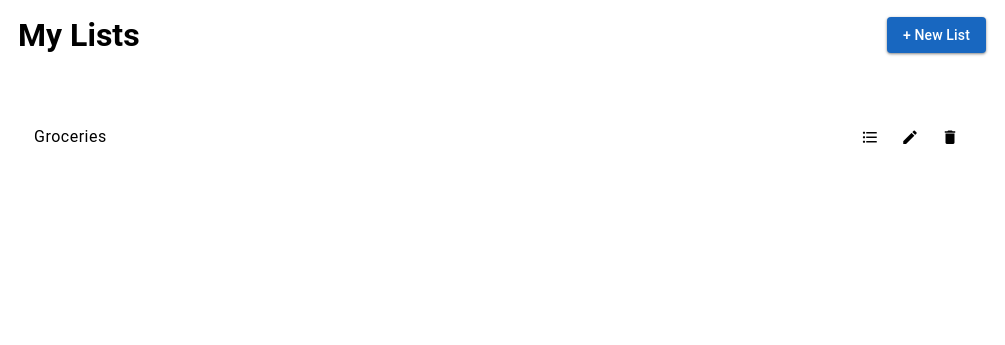
Test case: Feature 2 — Todo List Management › US-2.4 — Rename and delete lists › User deletes a list
The image size is (1005, 345).
Click the button named "Delete list". click: (950, 137)
box: [930, 117, 970, 157]
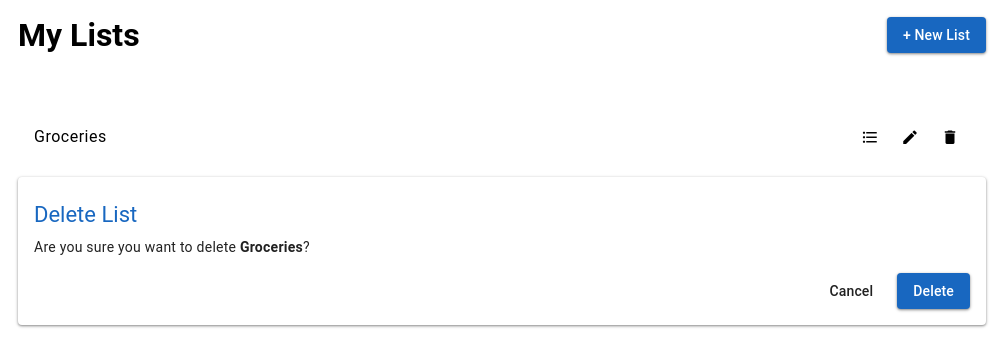
Click the button "Delete". click: (934, 291)
box: [897, 273, 970, 309]
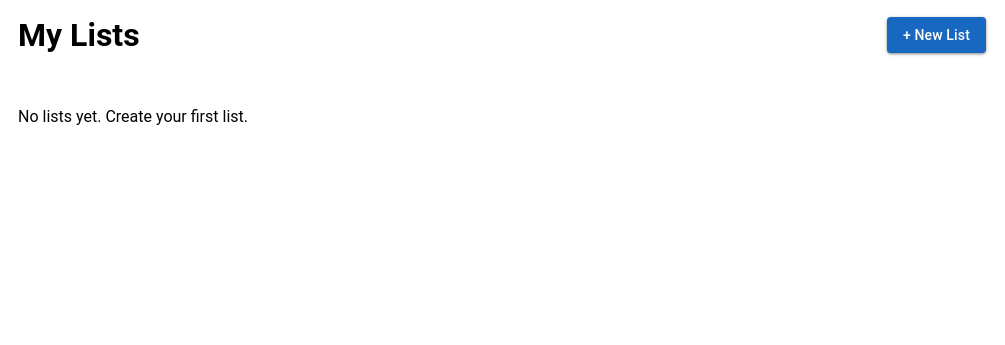
Expected: the text "Groceries" is gone
